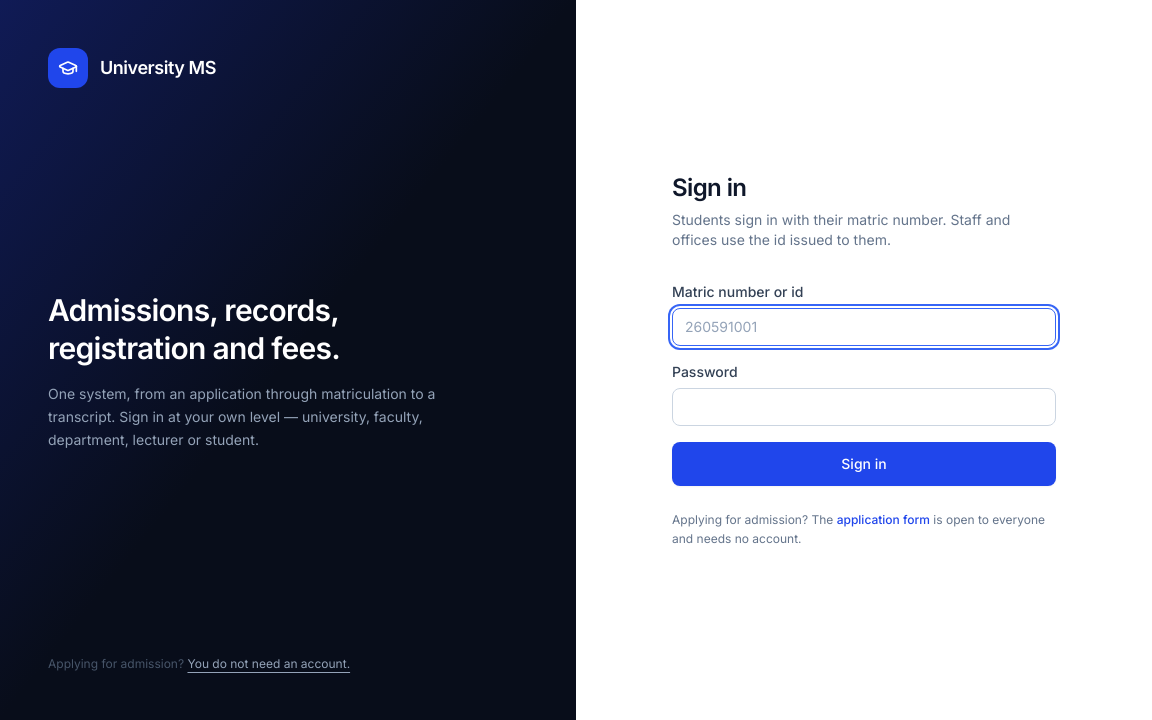
Test case: Login › shows the server's refusal rather than one of its own
Type "nobody" into the field labelled "Matric number or id" at (864, 326), box [672, 308, 1056, 346]
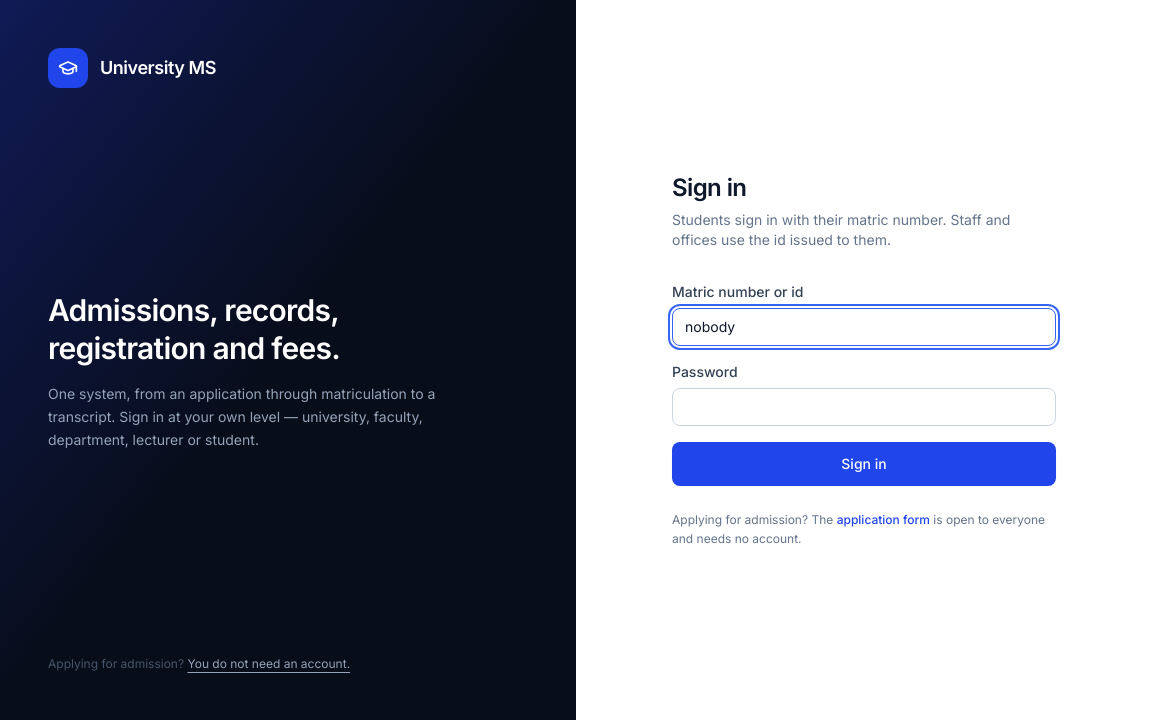
Type "wrong" into the password field labelled "Password" at (864, 406), box [672, 388, 1056, 426]
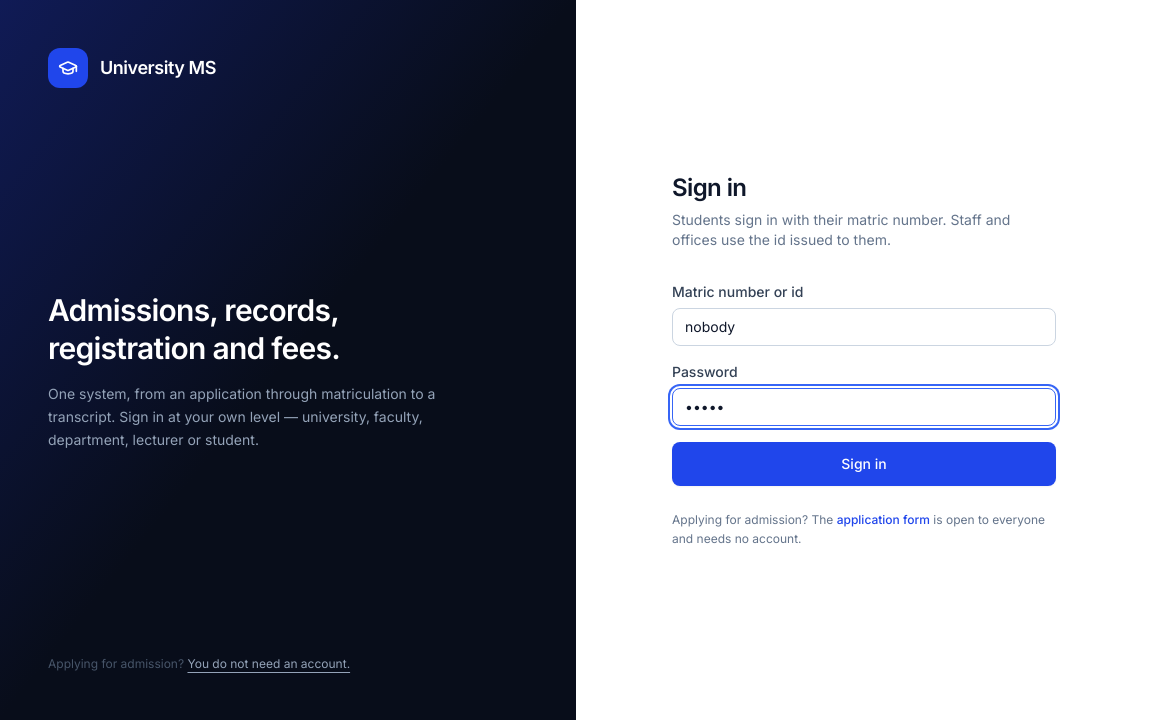
Click the button "Sign in" at (864, 464), box [672, 442, 1056, 486]
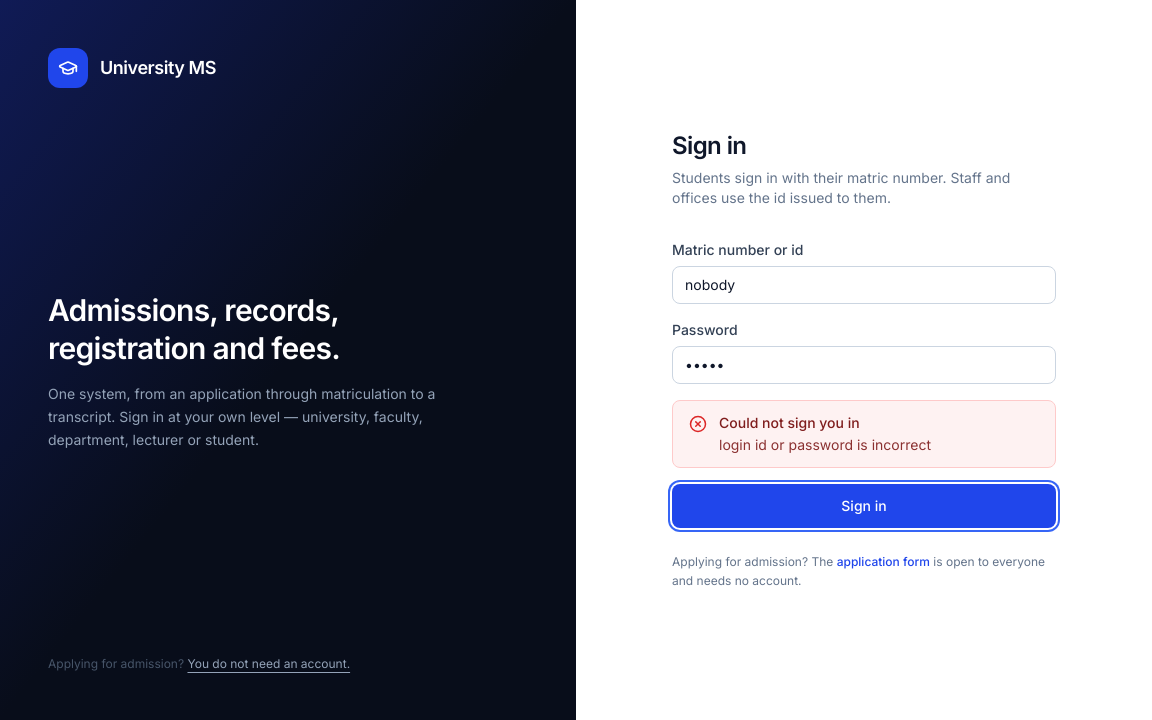
Expected: the text "login id or password is incorrect" is shown, [719, 434, 931, 454]
